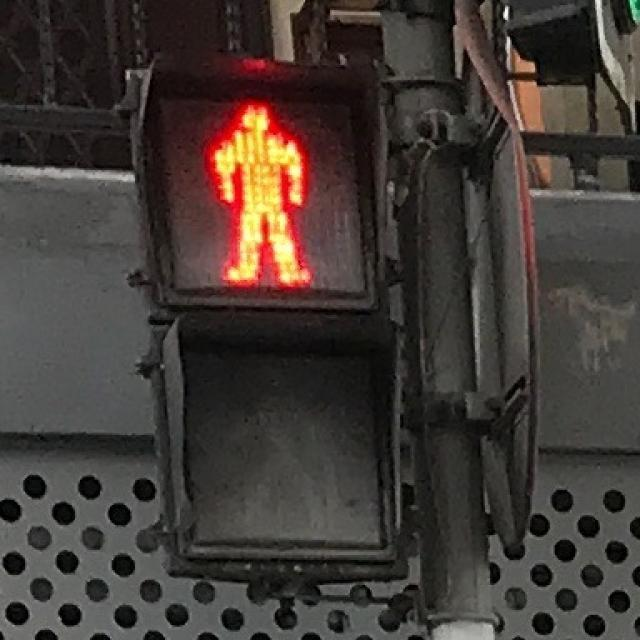red-crossing: (196, 98, 328, 282)
